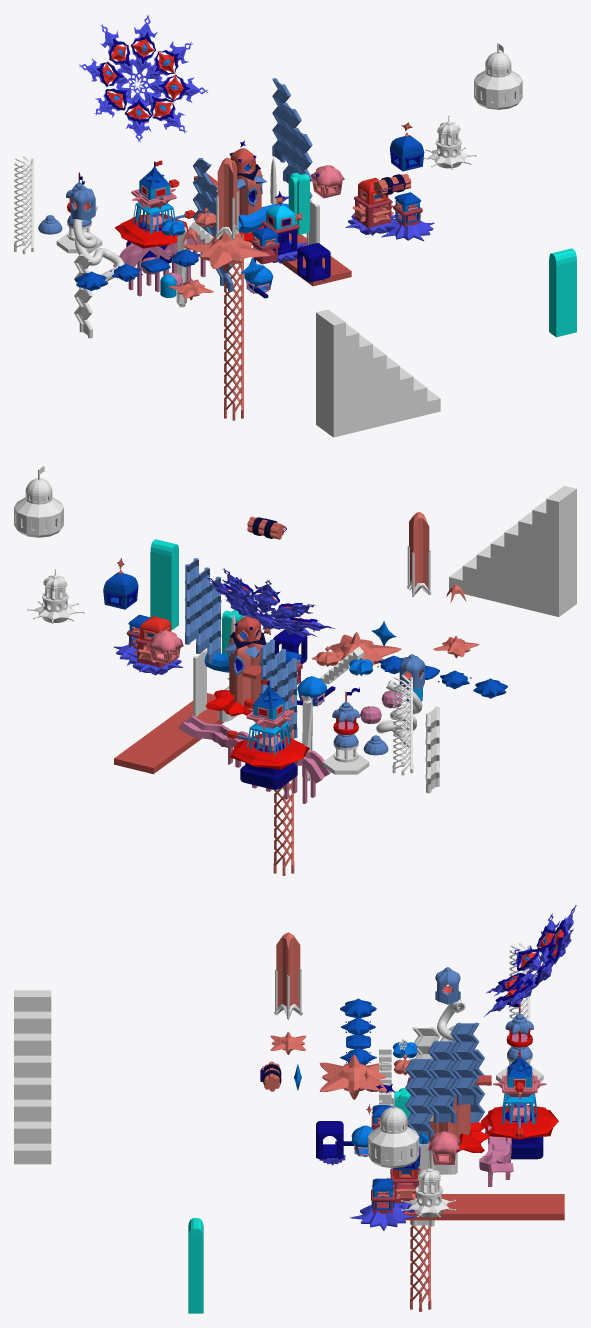
File: Platform.fbx
The picture shows the model from 3 angles, top to bottom: view 1: azimuth 30°, elevation 25°; view 2: azimuth 150°, elevation 25°; view 3: azimuth 270°, elevation 25°; orthographic projection. The views are drawn at different scales.
Visible parts, largest first — view 1: Cube.084, Cube.022, Cylinder.009, Circle.016, Cube.079, Cube.070, Cube.018, Circle.017, Cube.026, Cube.023, Circle, Cube.082 (+25 smaller); view 2: Cube.084, Cube.014, Cube.022, Cube.018, Cylinder.009, Cube.079, Circle, Circle.017, Circle.016, Cube.039, Cube.027, Cube.048 (+26 smaller); view 3: Cube.084, Cube.014, Cylinder.009, Cube.079, Cube.048, Cube.043, Cube.038, Cube.070, Circle, Cube.022, Circle.016, Cube.018 (+12 smaller).
Boxes of the visible parts, x1=… form: Cube.084: x1=316, y1=309, x2=440, y2=437; Cube.022: x1=549, y1=248, x2=576, y2=337; Cylinder.009: x1=474, y1=52, x2=522, y2=109; Circle.016: x1=224, y1=234, x2=243, y2=420; Cube.079: x1=169, y1=157, x2=237, y2=300; Cube.070: x1=182, y1=232, x2=269, y2=271; Cube.018: x1=113, y1=237, x2=211, y2=296; Circle.017: x1=14, y1=156, x2=33, y2=254; Cube.026: x1=256, y1=204, x2=308, y2=263; Cube.023: x1=297, y1=243, x2=330, y2=281; Circle: x1=114, y1=213, x2=188, y2=248; Cube.082: x1=288, y1=172, x2=309, y2=234; Cube.084: x1=449, y1=485, x2=576, y2=616; Cube.014: x1=114, y1=693, x2=224, y2=774; Cube.022: x1=150, y1=539, x2=178, y2=630; Cube.018: x1=178, y1=714, x2=331, y2=803; Cylinder.009: x1=14, y1=478, x2=63, y2=537; Cube.079: x1=409, y1=512, x2=479, y2=658; Circle: x1=229, y1=733, x2=309, y2=769; Circle.017: x1=392, y1=675, x2=413, y2=775; Circle.016: x1=273, y1=690, x2=294, y2=875; Cube.039: x1=229, y1=637, x2=263, y2=706; Cube.027: x1=425, y1=706, x2=439, y2=793; Cube.048: x1=185, y1=558, x2=198, y2=644; Cube.084: x1=14, y1=990, x2=51, y2=1164; Cube.014: x1=403, y1=1194, x2=564, y2=1220; Cylinder.009: x1=368, y1=1107, x2=419, y2=1168; Cube.079: x1=270, y1=932, x2=306, y2=1054; Cube.048: x1=450, y1=1022, x2=479, y2=1105; Cube.043: x1=427, y1=1040, x2=456, y2=1123; Cube.038: x1=405, y1=1058, x2=433, y2=1140; Cube.070: x1=319, y1=1055, x2=386, y2=1099; Circle: x1=480, y1=1105, x2=558, y2=1139; Cube.022: x1=188, y1=1218, x2=203, y2=1313; Circle.016: x1=410, y1=1220, x2=431, y2=1311; Cube.018: x1=479, y1=1111, x2=513, y2=1186.
Size of the model in its own units: 857 by 628 by 861.
